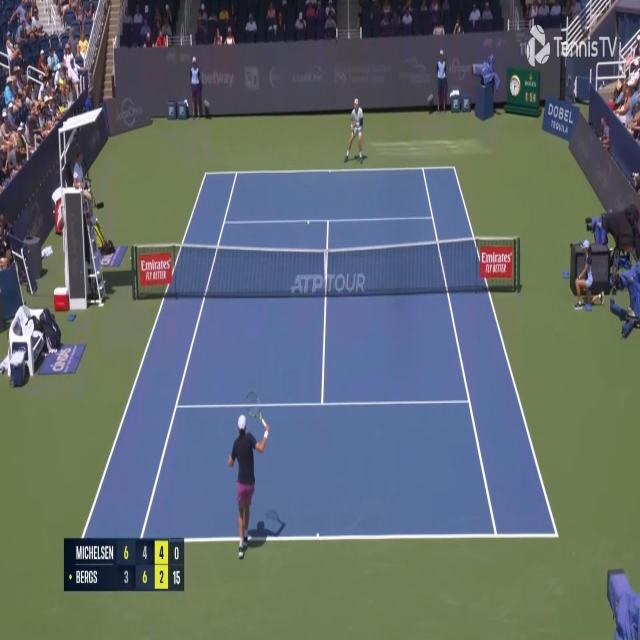tennis-player: (228, 409, 275, 560), (344, 94, 366, 166)
